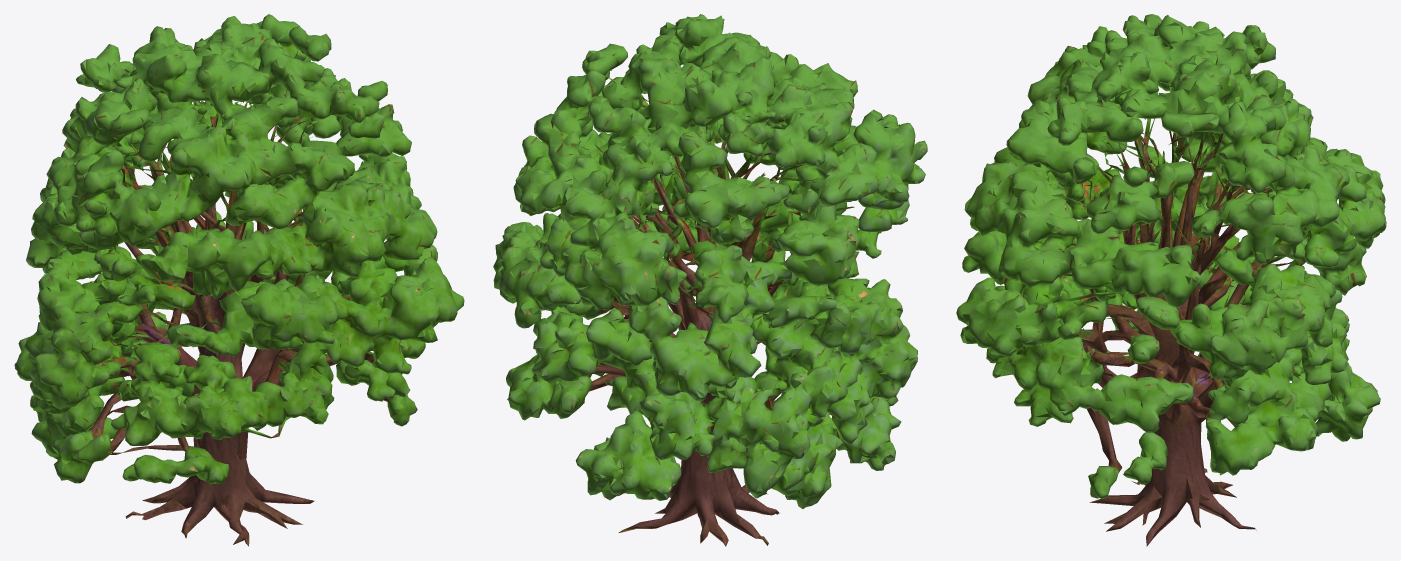
File: mature-temperate-oak-meshy6-r1_review.glb
The picture shows the model from 3 angles, left to right: view 1: azimuth 30°, elevation 25°; view 2: azimuth 150°, elevation 25°; view 3: azimuth 270°, elevation 25°; orthographic projection.
Parts seen in each view (by area): view 1: Mesh_0.001; view 2: Mesh_0.001; view 3: Mesh_0.001.
Part boxes in pixels (x1=…): Mesh_0.001: x1=14, y1=14, x2=464, y2=546; Mesh_0.001: x1=493, y1=14, x2=927, y2=546; Mesh_0.001: x1=956, y1=14, x2=1386, y2=546.
Bounding box in the file's own units: 8.24 × 10 × 8.24.
Materials: 1 (1 with a texture image).
